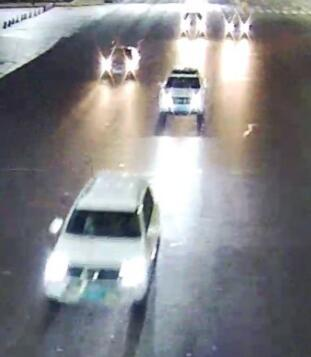car: (40, 166, 164, 315), (157, 66, 210, 121), (101, 43, 140, 81), (221, 10, 253, 42), (177, 10, 210, 40)
